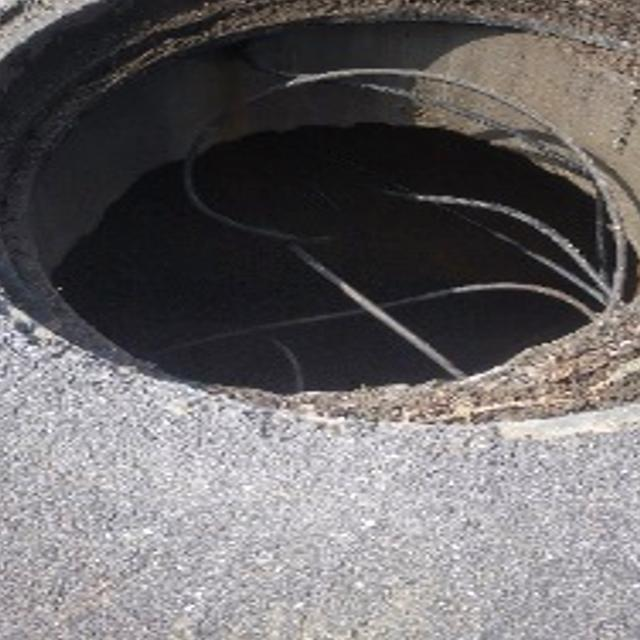lose: (0, 0, 640, 429)
